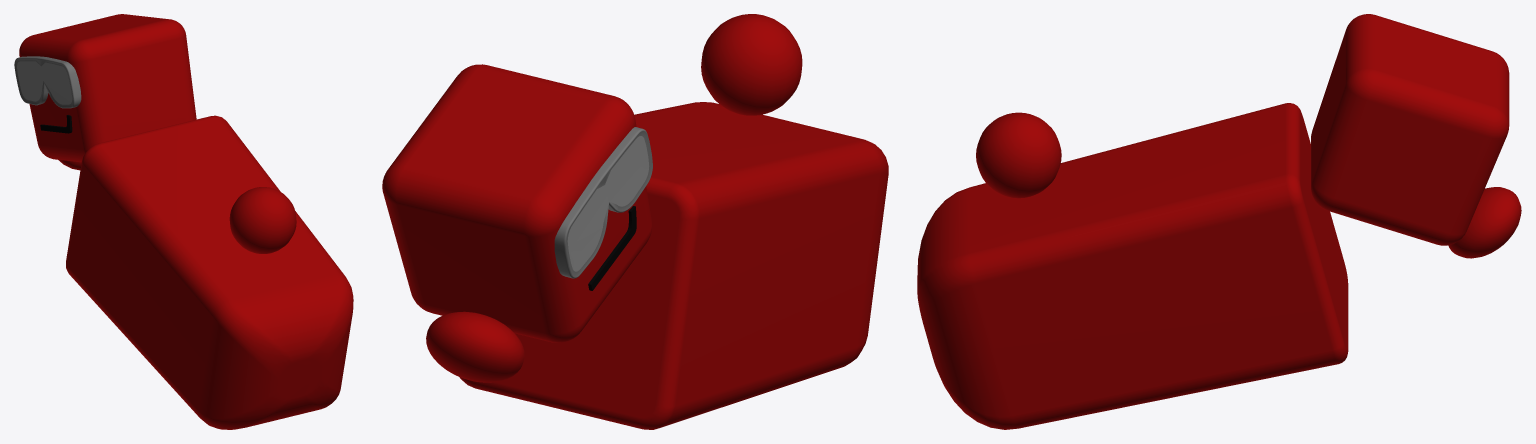
File: coolDude.fbx
The picture shows the model from 3 angles, left to right: view 1: azimuth 30°, elevation 25°; view 2: azimuth 150°, elevation 25°; view 3: azimuth 270°, elevation 25°; orthographic projection. The views are drawn at different scales.
Visible parts, largest first — view 1: pCube2, polySurface12, pSphere3; view 2: pCube2, polySurface12, pSphere3, pSphere4; view 3: pCube2, polySurface12, pSphere3, pSphere4.
Boxes of the visible parts, <box> form: pCube2: <box>66,115,353,429</box>; polySurface12: <box>14,14,196,162</box>; pSphere3: <box>229,187,296,253</box>; pCube2: <box>459,102,888,429</box>; polySurface12: <box>382,64,652,342</box>; pSphere3: <box>701,14,802,115</box>; pSphere4: <box>426,311,524,382</box>; pCube2: <box>917,103,1348,429</box>; polySurface12: <box>1311,14,1509,245</box>; pSphere3: <box>976,112,1061,198</box>; pSphere4: <box>1448,187,1521,258</box>.
Size of the model in its own units: 1.32 by 2.41 by 3.72.
